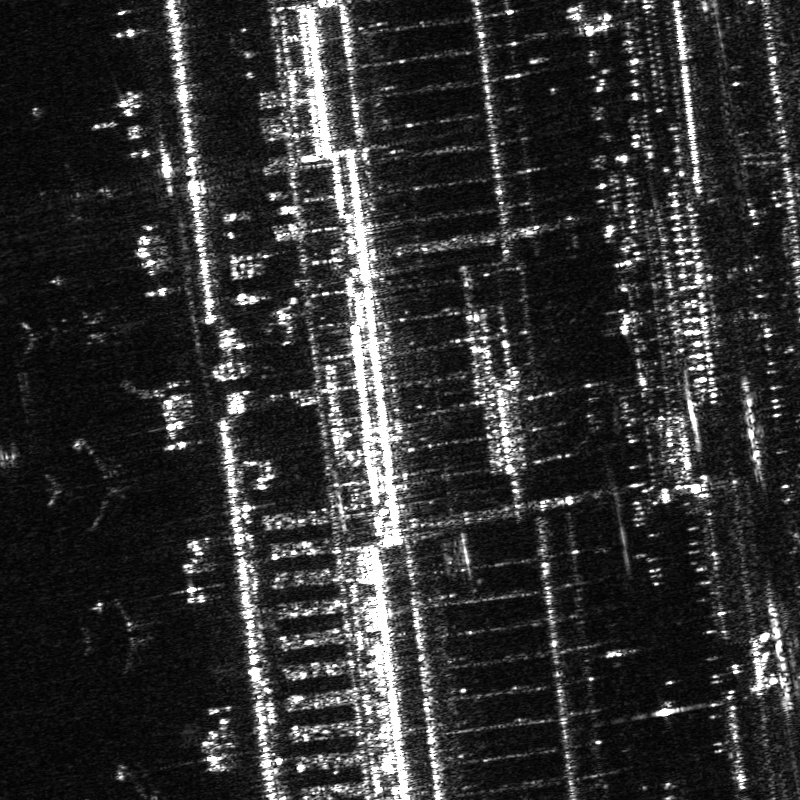Boeing787: (45, 436, 152, 535), (28, 280, 126, 364), (82, 593, 160, 682), (74, 754, 188, 799)
other: (33, 161, 116, 228)
